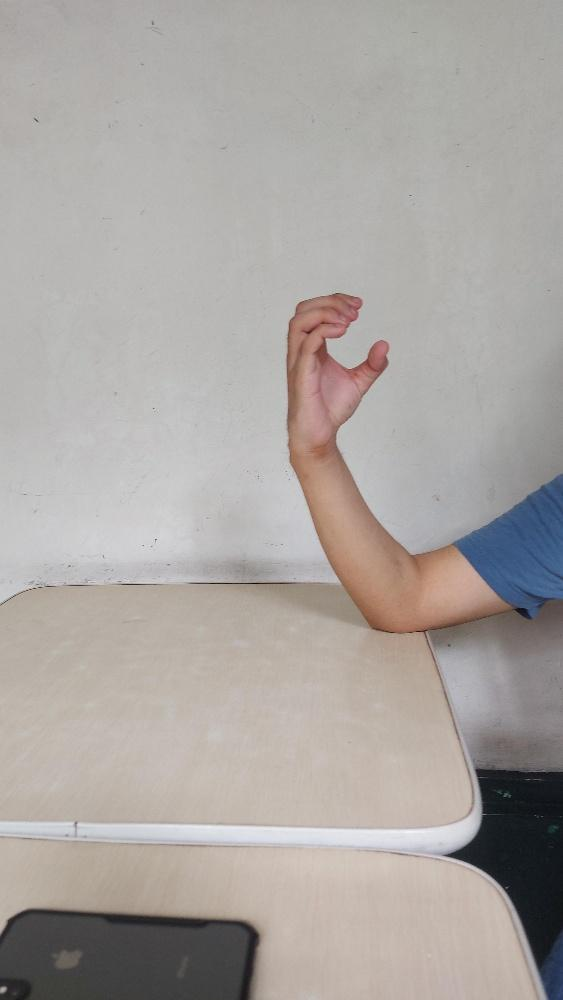c: (285, 291, 388, 451)
